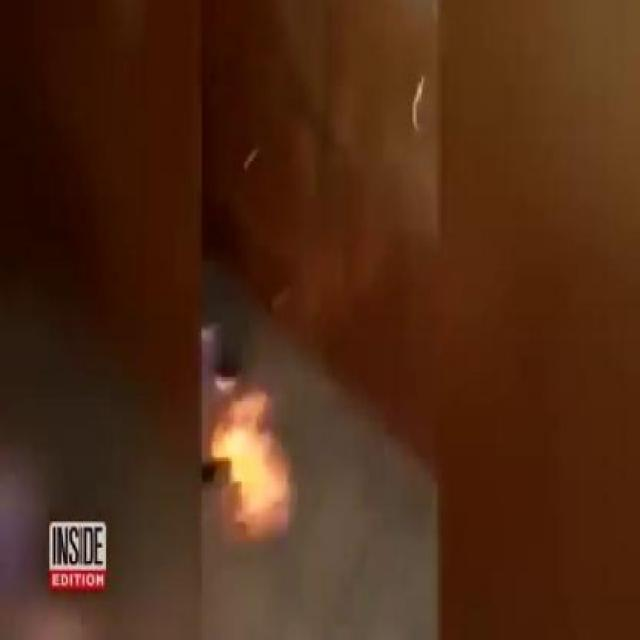fire: (214, 384, 302, 548)
